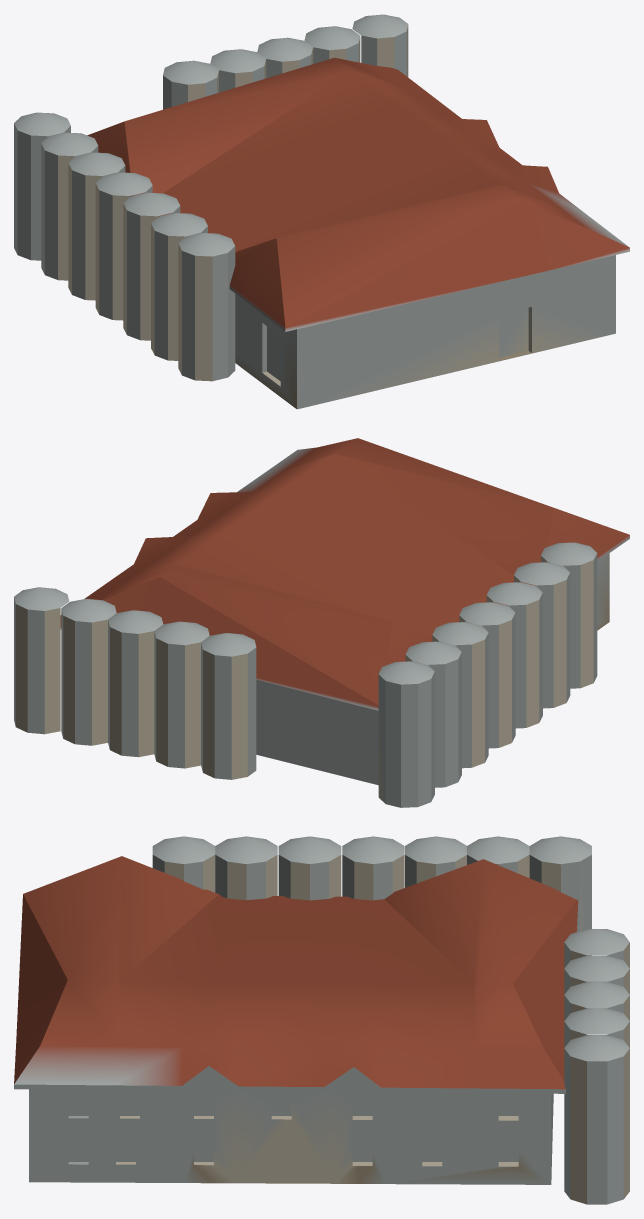
The picture shows the model from 3 angles, top to bottom: view 1: azimuth 30°, elevation 25°; view 2: azimuth 150°, elevation 25°; view 3: azimuth 270°, elevation 25°; orthographic projection. The views are drawn at different scales.
Visible parts, largest first — view 1: pCube28:PIV; view 2: pCube28:PIV; view 3: pCube28:PIV.
Boxes of the visible parts, box(x1,y1,x2,y2) form: pCube28:PIV: box(14, 14, 629, 409); pCube28:PIV: box(14, 438, 629, 807); pCube28:PIV: box(14, 836, 629, 1204).
Bounding box in the file's own units: 12.25 × 4.1 × 14.17.
